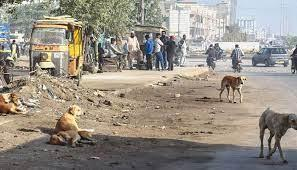dog_aggressive: (218, 68, 250, 106)
normal_dogs: (258, 106, 297, 165), (57, 103, 96, 134), (44, 127, 99, 148)
